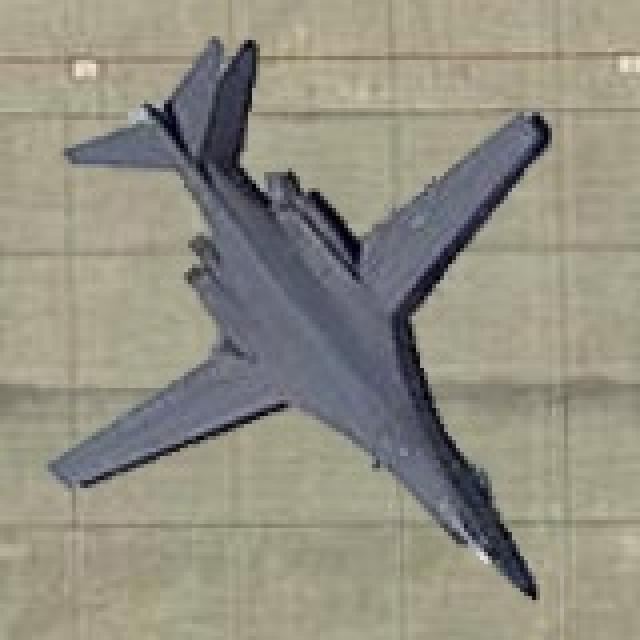B-1_TopDown: (44, 28, 556, 600)
